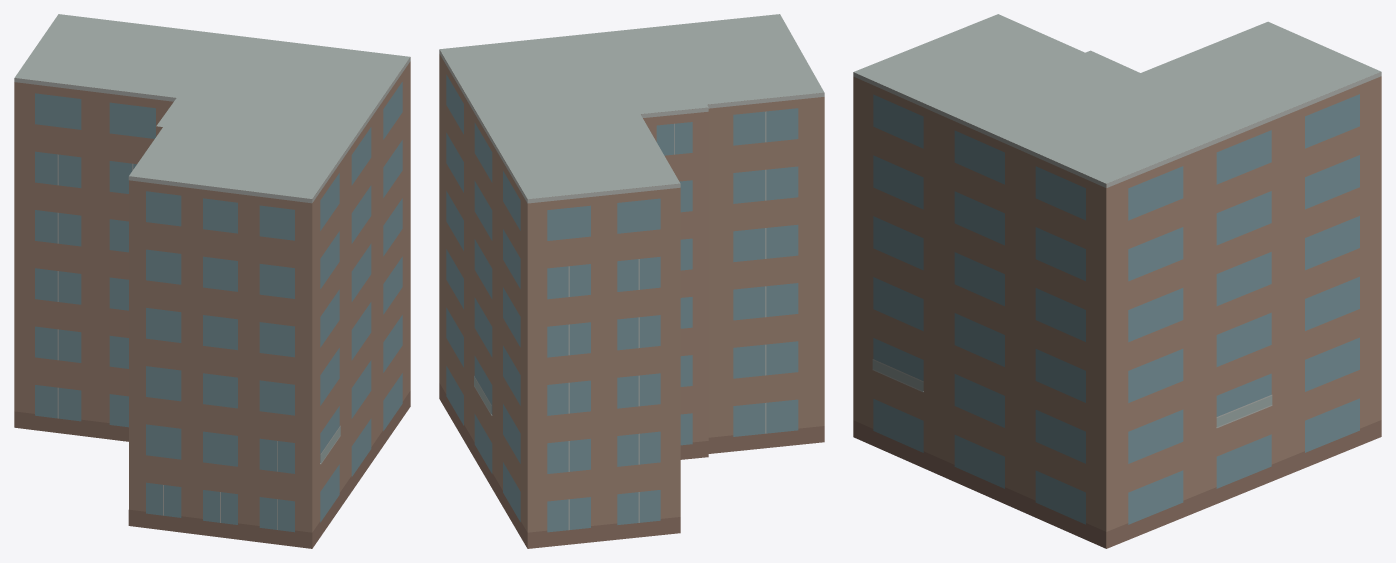
The model's file is survey-upis-32652463.glb.
3 renders of one model, left to right at view 1: azimuth 30°, elevation 25°; view 2: azimuth 150°, elevation 25°; view 3: azimuth 270°, elevation 25°, orthographic. The views are drawn at different scales.
Parts seen in each view (by area): view 1: survey-upis-32652463.tmp; view 2: survey-upis-32652463.tmp; view 3: survey-upis-32652463.tmp.
Part boxes in pixels (left/top/right/bottom): survey-upis-32652463.tmp: left=14, top=14, right=410, bottom=548; survey-upis-32652463.tmp: left=439, top=14, right=824, bottom=548; survey-upis-32652463.tmp: left=853, top=14, right=1381, bottom=548.
Bounding box in the file's own units: 20.26 × 20.3 × 26.63.
